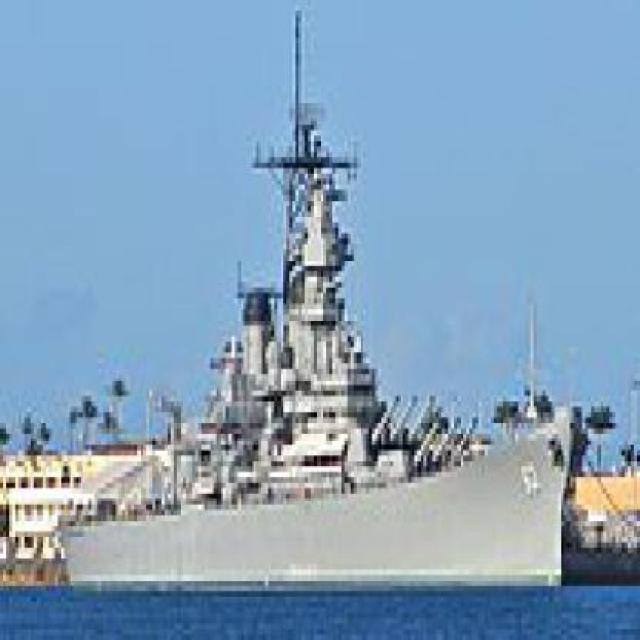warship2: (62, 56, 593, 603)
